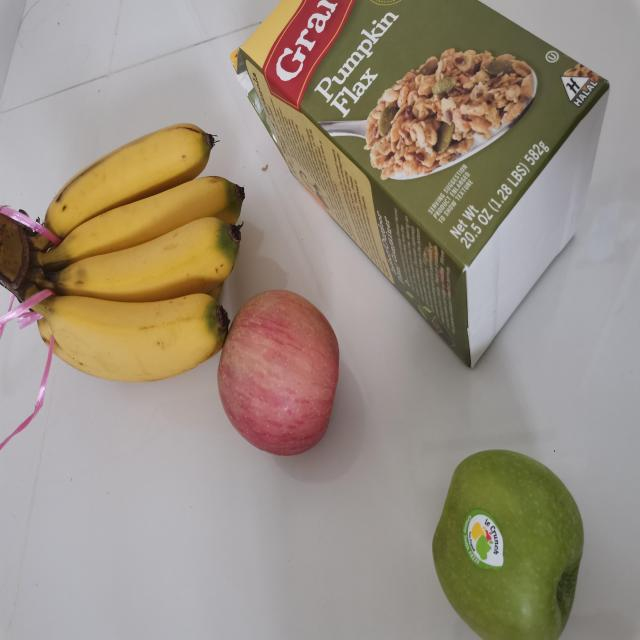Apple: (430, 449, 588, 640), (218, 288, 340, 456)
Banana: (0, 124, 242, 388)
Cerealbox: (227, 5, 612, 370)
